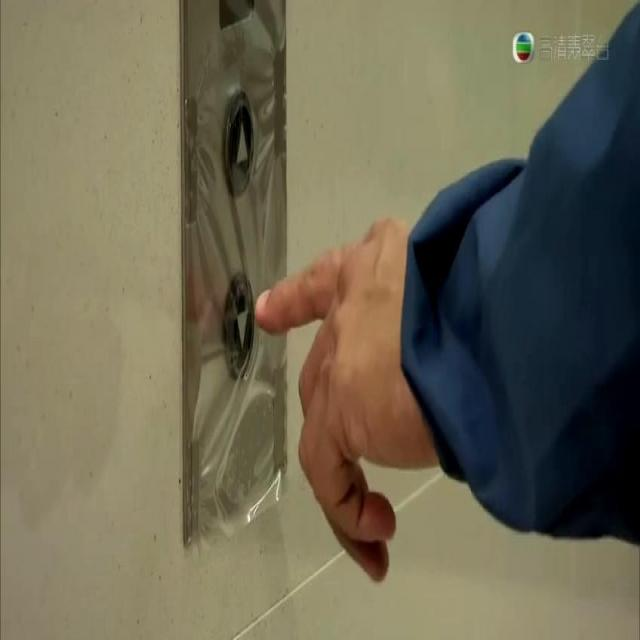down: (222, 272, 255, 383)
up: (221, 90, 254, 198)
